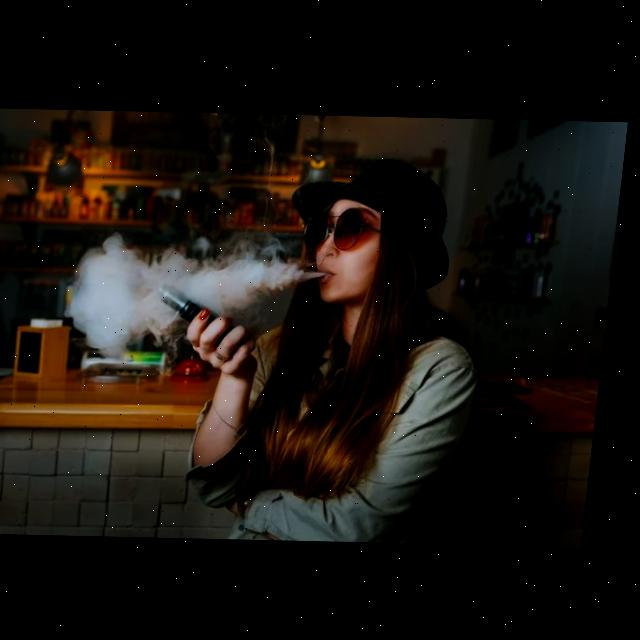vape: (162, 283, 228, 326)
